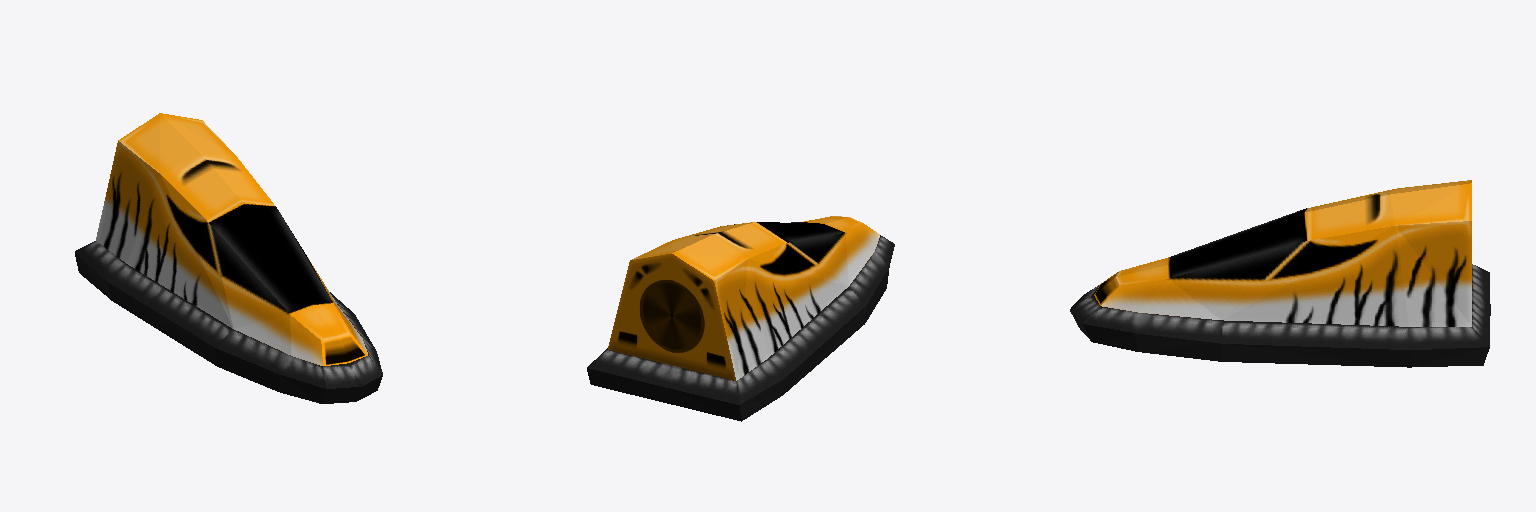
3 views of the same model, side by side, from view 1: azimuth 30°, elevation 25°; view 2: azimuth 150°, elevation 25°; view 3: azimuth 270°, elevation 25° (orthographic).
Visible parts, largest first — view 1: tiger0; view 2: tiger0; view 3: tiger0.
Part boxes in pixels (left/top/right/bottom): tiger0: left=75, top=113, right=382, bottom=403; tiger0: left=587, top=216, right=894, bottom=421; tiger0: left=1070, top=180, right=1490, bottom=367.
Size of the model in its own units: 341 by 286 by 750.
Materials: 1 (1 with a texture image).